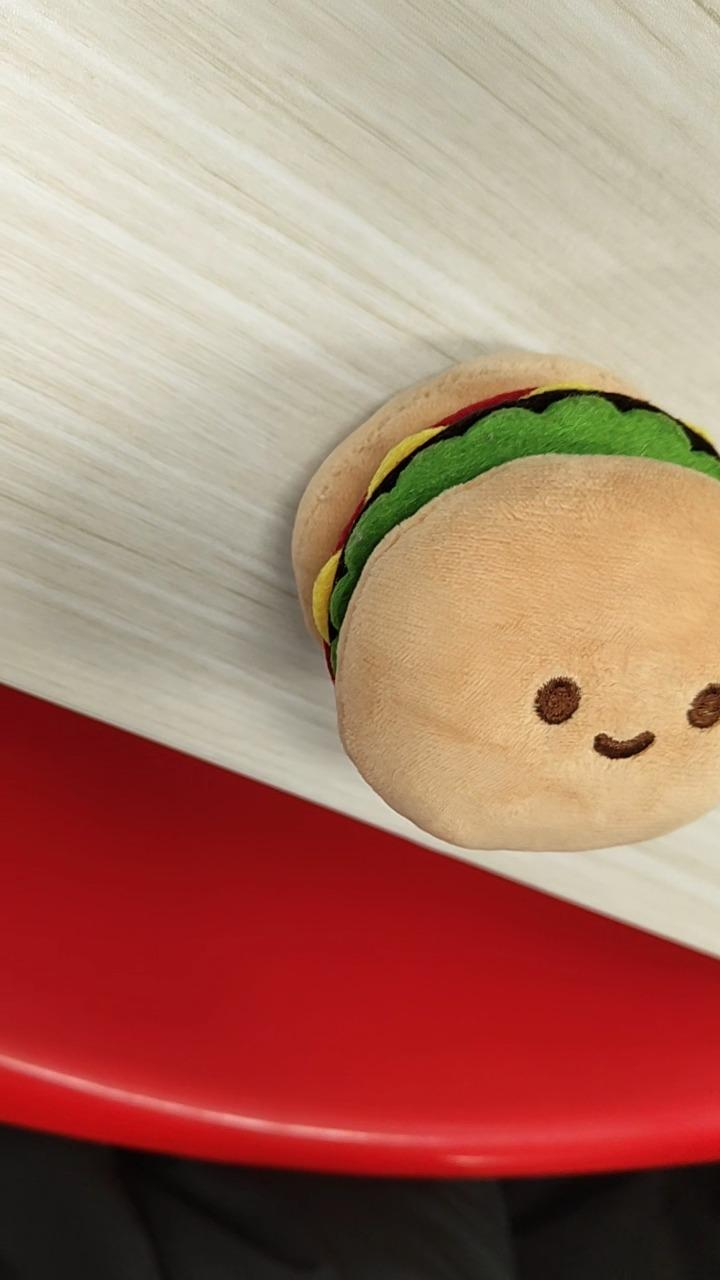hamburger: (289, 347, 718, 854)
